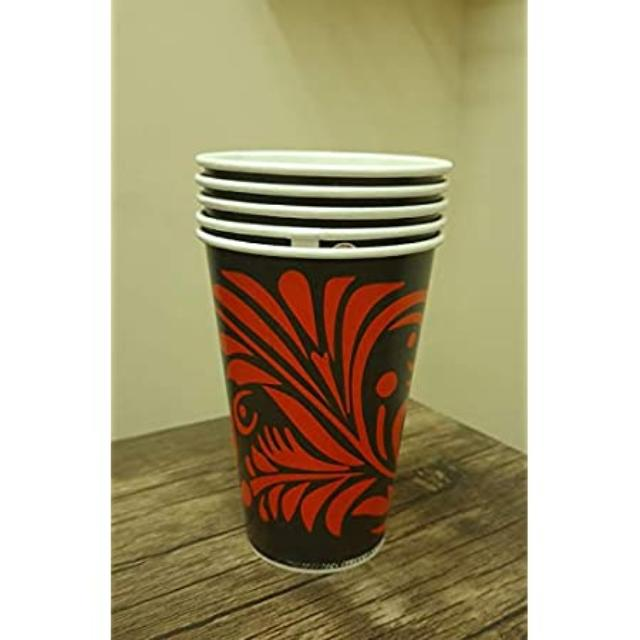trash: (196, 147, 454, 575)
